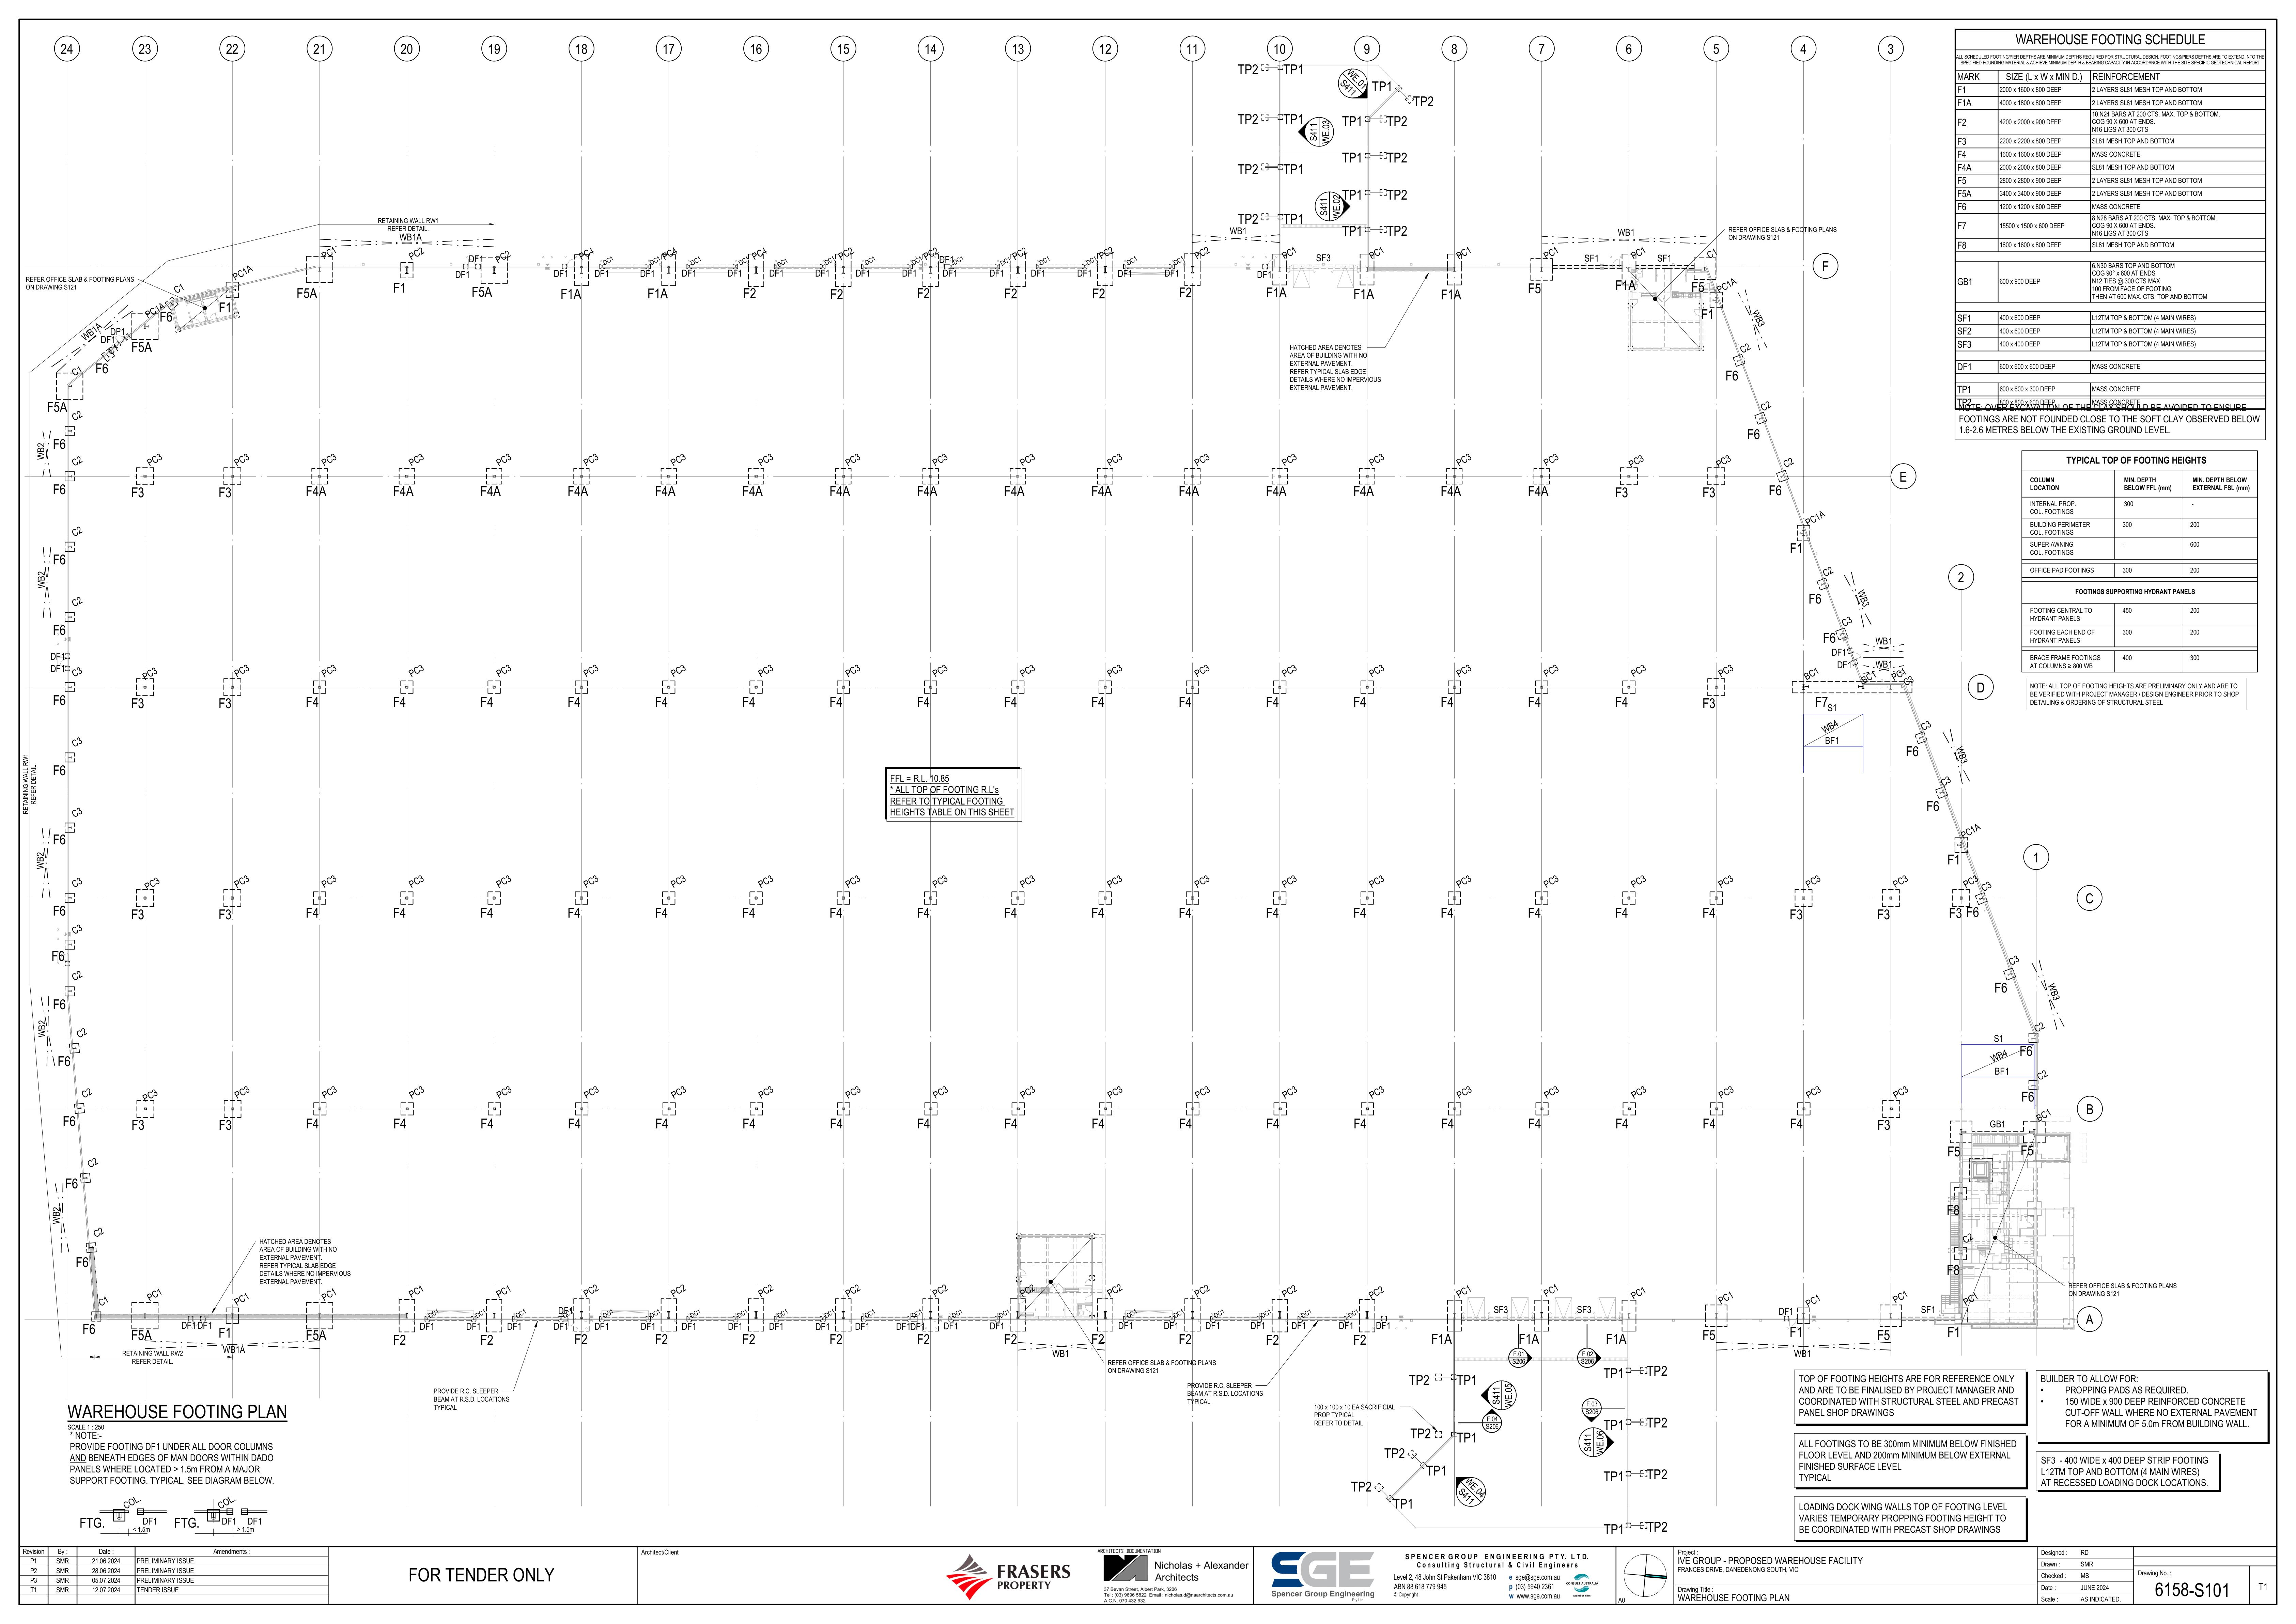BC1: (2032, 1106, 2057, 1120), (1802, 666, 1821, 680), (1860, 673, 1878, 684)
BF1: (1992, 1067, 2013, 1076)
C2: (1960, 1229, 1985, 1246), (2036, 1069, 2052, 1079), (2032, 1021, 2048, 1032)
C3: (1978, 879, 2001, 895), (1918, 717, 1934, 733), (2006, 949, 2022, 963), (1839, 613, 1855, 627), (1897, 675, 1918, 685), (1939, 773, 1953, 786)
DF1: (851, 1320, 879, 1334), (724, 1318, 751, 1332), (679, 1320, 703, 1334), (981, 264, 1006, 278), (90, 332, 118, 344), (935, 250, 956, 265), (1157, 1318, 1183, 1330), (556, 1301, 575, 1316), (812, 1320, 837, 1332), (636, 265, 661, 278), (1204, 1320, 1225, 1334), (1027, 267, 1048, 281), (592, 269, 621, 279), (1074, 265, 1097, 278), (897, 265, 919, 278), (939, 267, 962, 279), (853, 269, 876, 281), (765, 269, 791, 279), (895, 1318, 914, 1332), (195, 1318, 214, 1332), (505, 1320, 524, 1334), (592, 1320, 612, 1334), (1253, 265, 1273, 279), (1118, 267, 1137, 281), (1287, 1320, 1308, 1332), (1116, 1320, 1137, 1332), (986, 1320, 1007, 1332), (417, 1322, 440, 1332), (679, 267, 701, 278), (1336, 1320, 1355, 1332), (765, 1320, 784, 1332), (728, 267, 749, 278), (1777, 1306, 1795, 1318), (1375, 1320, 1392, 1332), (178, 1318, 195, 1330), (556, 1320, 573, 1332), (814, 267, 832, 279), (1835, 659, 1855, 670), (1250, 1320, 1266, 1332), (946, 1320, 962, 1332), (911, 1320, 926, 1332), (1832, 643, 1848, 656), (466, 1322, 483, 1332), (638, 1320, 656, 1330), (1162, 267, 1180, 278), (454, 269, 475, 278), (111, 323, 127, 334), (468, 253, 482, 264), (554, 271, 571, 278)
F1: (1697, 304, 1723, 323), (1944, 1323, 1967, 1343), (390, 278, 415, 295), (1788, 538, 1804, 557), (1944, 849, 1962, 865), (214, 302, 236, 315), (1788, 1323, 1806, 1338), (214, 1327, 234, 1339)
F1A: (1603, 1329, 1638, 1346), (556, 283, 587, 302), (1264, 283, 1294, 302), (645, 285, 675, 301), (1426, 1330, 1459, 1345), (1352, 288, 1382, 302), (1612, 278, 1642, 292), (1438, 285, 1464, 301), (1519, 1330, 1540, 1345)
F2: (381, 1329, 410, 1345), (826, 283, 847, 302), (1000, 285, 1023, 302), (1086, 283, 1109, 301), (1262, 1332, 1287, 1348), (740, 283, 763, 299), (912, 286, 935, 302), (912, 1332, 935, 1348), (1178, 283, 1197, 299), (570, 1329, 589, 1345), (478, 1334, 499, 1348), (826, 1332, 847, 1346), (738, 1332, 758, 1346), (1000, 1332, 1021, 1345), (1348, 1332, 1370, 1345), (654, 1334, 673, 1346), (1090, 1332, 1109, 1345), (1174, 1334, 1195, 1345)
F3: (125, 1118, 153, 1135), (214, 903, 236, 924), (216, 1116, 239, 1135), (128, 698, 158, 712), (130, 905, 149, 926), (1700, 694, 1721, 714), (1878, 1116, 1899, 1134), (1876, 902, 1893, 923), (1784, 903, 1802, 923), (1946, 902, 1964, 921), (1610, 483, 1631, 499), (1698, 485, 1719, 501), (216, 696, 236, 712), (125, 485, 146, 499), (214, 485, 236, 497)
F4: (557, 905, 592, 921), (1262, 694, 1290, 712), (1169, 1114, 1197, 1132), (389, 1116, 417, 1134), (649, 902, 673, 921), (301, 1116, 327, 1134), (1261, 1116, 1289, 1132), (394, 694, 418, 712), (1000, 691, 1023, 708), (654, 694, 677, 712), (1526, 1114, 1549, 1132), (564, 1114, 587, 1132), (478, 1114, 501, 1132), (561, 694, 589, 708), (912, 1116, 937, 1132), (1090, 907, 1111, 924), (1612, 1114, 1633, 1132), (828, 1114, 849, 1132), (825, 692, 847, 708), (301, 903, 323, 919), (1350, 1116, 1373, 1132), (1000, 1116, 1023, 1132), (650, 1116, 673, 1132), (1090, 1114, 1109, 1132), (1000, 903, 1021, 919), (1786, 1116, 1807, 1132), (737, 1116, 758, 1132), (478, 694, 501, 708), (1174, 905, 1197, 919), (1262, 907, 1285, 921), (1354, 905, 1373, 921), (1438, 903, 1457, 919), (1612, 903, 1631, 919), (1436, 694, 1457, 708), (911, 694, 932, 708), (828, 905, 849, 919), (737, 694, 759, 707), (1528, 902, 1544, 919), (1440, 1114, 1457, 1130), (1526, 694, 1545, 708), (1350, 696, 1370, 710), (914, 907, 934, 921), (1612, 694, 1630, 708), (478, 905, 496, 919), (1700, 1114, 1718, 1128), (1092, 696, 1111, 708), (302, 696, 322, 708), (738, 905, 758, 917), (1700, 907, 1719, 919), (392, 905, 410, 917), (1176, 694, 1194, 705)
F4A: (823, 483, 856, 499), (1350, 482, 1380, 499), (1433, 485, 1468, 499), (1526, 483, 1556, 499), (476, 485, 506, 499), (302, 483, 331, 497), (1178, 483, 1202, 499), (1266, 482, 1287, 499), (999, 483, 1028, 496), (566, 485, 591, 499), (654, 485, 682, 497), (738, 485, 765, 497), (392, 485, 417, 497), (914, 485, 939, 497), (1092, 485, 1113, 497)
F5: (2018, 1142, 2038, 1158), (1528, 279, 1549, 294), (1686, 279, 1709, 292), (1946, 1142, 1962, 1158), (1700, 1330, 1719, 1343), (1876, 1330, 1892, 1343)
F5A: (292, 281, 322, 302), (128, 1325, 158, 1343), (128, 337, 156, 355), (473, 281, 496, 301), (297, 1329, 332, 1341), (47, 399, 70, 413)
F6: (1899, 740, 1927, 758), (1806, 589, 1830, 608), (67, 1250, 91, 1269), (1992, 977, 2013, 998), (1740, 422, 1763, 441), (76, 1318, 98, 1336), (47, 550, 69, 568), (58, 1172, 79, 1190), (58, 1111, 77, 1128), (1923, 794, 1944, 810), (2016, 1090, 2039, 1104), (49, 482, 69, 497), (1763, 478, 1783, 494), (53, 1051, 72, 1067), (90, 364, 111, 378), (1821, 629, 1842, 643), (1723, 367, 1740, 383), (1965, 903, 1983, 919), (49, 620, 67, 636), (2018, 1042, 2036, 1058), (47, 831, 67, 845), (47, 439, 69, 452), (49, 763, 67, 777), (49, 902, 67, 916), (49, 946, 67, 960), (49, 694, 69, 707), (49, 997, 65, 1011), (158, 311, 174, 323)
F8: (1943, 1262, 1965, 1276), (1946, 1202, 1960, 1216)
GB1: (1987, 1116, 2008, 1130)
PC1: (403, 1281, 427, 1299), (1628, 1285, 1649, 1302), (146, 1285, 165, 1302), (320, 1287, 341, 1302), (1712, 1290, 1733, 1306), (1540, 1278, 1558, 1295), (1802, 1290, 1820, 1308), (1960, 1290, 1981, 1304), (1454, 1283, 1471, 1299), (232, 1292, 251, 1306), (496, 1285, 513, 1299), (1890, 664, 1907, 678), (1892, 1292, 1907, 1306)
PC1A: (1955, 823, 1985, 838)
PC2: (844, 1285, 870, 1301), (1102, 1281, 1123, 1299), (1362, 1283, 1385, 1299), (926, 1281, 948, 1297), (1280, 1283, 1301, 1299), (582, 1283, 601, 1299), (670, 1283, 689, 1299), (1018, 1281, 1037, 1297), (1192, 1283, 1211, 1299), (759, 1285, 774, 1299)
PC3: (492, 1079, 515, 1100), (496, 872, 519, 891), (1714, 1083, 1739, 1100), (837, 452, 863, 468), (756, 872, 779, 889), (1366, 663, 1391, 678), (1886, 1084, 1911, 1100), (1454, 450, 1475, 468), (1104, 663, 1125, 680), (232, 661, 253, 678), (842, 872, 863, 889), (668, 1083, 689, 1100), (1016, 452, 1039, 468), (842, 663, 865, 678), (318, 663, 341, 678), (1192, 663, 1217, 677), (580, 663, 605, 677), (1628, 661, 1646, 680), (1540, 661, 1558, 680), (1282, 663, 1301, 680), (756, 661, 774, 680), (318, 870, 338, 888), (320, 1083, 339, 1100), (582, 1083, 601, 1100), (932, 1083, 951, 1100), (1018, 870, 1037, 888), (1718, 874, 1737, 891), (229, 874, 250, 889), (668, 874, 689, 889), (1452, 874, 1473, 889), (1101, 1083, 1122, 1098), (665, 663, 687, 677), (494, 450, 512, 468), (1370, 450, 1387, 468), (232, 1083, 250, 1100), (1542, 872, 1559, 889), (1806, 1084, 1823, 1102), (1456, 1083, 1473, 1100), (1106, 452, 1125, 468), (1714, 663, 1733, 678), (584, 875, 603, 891), (1280, 874, 1299, 889), (1368, 874, 1387, 889), (1802, 874, 1821, 889), (1892, 874, 1911, 889), (1630, 1083, 1649, 1098), (1542, 1083, 1561, 1098), (1454, 664, 1475, 678), (1016, 663, 1037, 677), (406, 663, 427, 677), (1016, 1084, 1037, 1098), (754, 452, 777, 464), (932, 666, 955, 678), (406, 452, 424, 468), (932, 452, 949, 468), (142, 664, 160, 680), (142, 1086, 160, 1102), (758, 1083, 774, 1100), (1194, 872, 1211, 888), (1631, 875, 1649, 891), (1197, 1081, 1213, 1098), (1282, 1084, 1299, 1100), (1370, 1084, 1387, 1100), (230, 452, 250, 466), (1714, 453, 1733, 468), (846, 1086, 865, 1100), (1106, 874, 1125, 888), (316, 455, 341, 466), (494, 664, 515, 677), (670, 452, 686, 468), (142, 874, 158, 889), (932, 874, 948, 889), (1962, 872, 1978, 888), (582, 452, 599, 466), (1280, 453, 1299, 466), (1542, 452, 1558, 466), (408, 1083, 424, 1097), (144, 452, 162, 464), (1192, 453, 1210, 466), (1626, 453, 1644, 466), (410, 874, 424, 888)
S1: (1988, 1030, 2006, 1042)
SF1: (1654, 250, 1675, 264), (1922, 1304, 1939, 1316), (1580, 253, 1600, 264)
SF3: (1313, 248, 1333, 264), (1577, 1302, 1596, 1316), (1493, 1302, 1512, 1316)
TP1: (1391, 1496, 1426, 1512), (1452, 1371, 1480, 1390), (1280, 60, 1310, 76), (1600, 1522, 1628, 1538), (1338, 183, 1366, 199), (1602, 1362, 1624, 1381), (1426, 1461, 1450, 1478), (1283, 160, 1310, 176), (1280, 211, 1306, 227), (1370, 77, 1396, 93), (1602, 1415, 1624, 1431), (1456, 1429, 1479, 1445), (1340, 111, 1362, 127), (1341, 221, 1366, 236), (1340, 148, 1362, 162), (1605, 1466, 1624, 1482), (1285, 111, 1306, 125)
TP2: (1399, 1367, 1433, 1388), (1231, 56, 1261, 79), (1646, 1411, 1672, 1432), (1642, 1360, 1670, 1380), (1378, 1446, 1412, 1462), (1646, 1517, 1675, 1534), (1387, 221, 1417, 239), (1406, 1425, 1438, 1441), (1410, 91, 1438, 109), (1350, 1480, 1377, 1497), (1385, 112, 1413, 128), (1236, 109, 1261, 127), (1234, 160, 1261, 174), (1385, 148, 1412, 162), (1646, 1466, 1668, 1482), (1385, 185, 1408, 199), (1238, 213, 1261, 225)
WB4: (1985, 1049, 2009, 1060)
